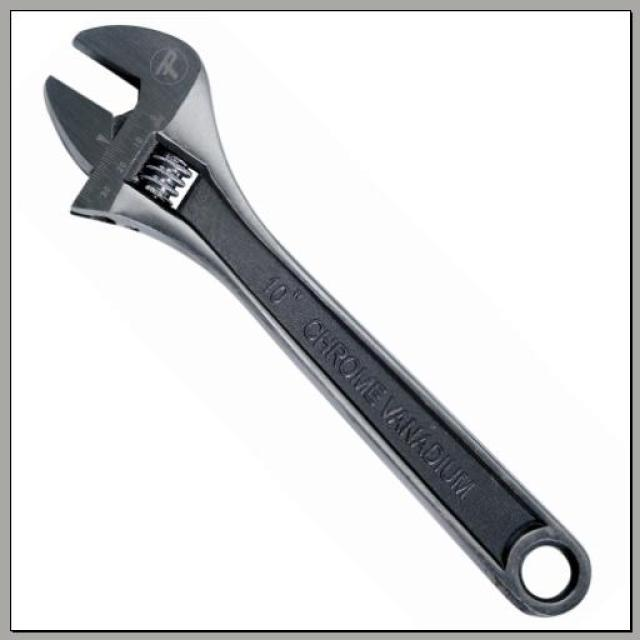wrench: (12, 14, 600, 615)
